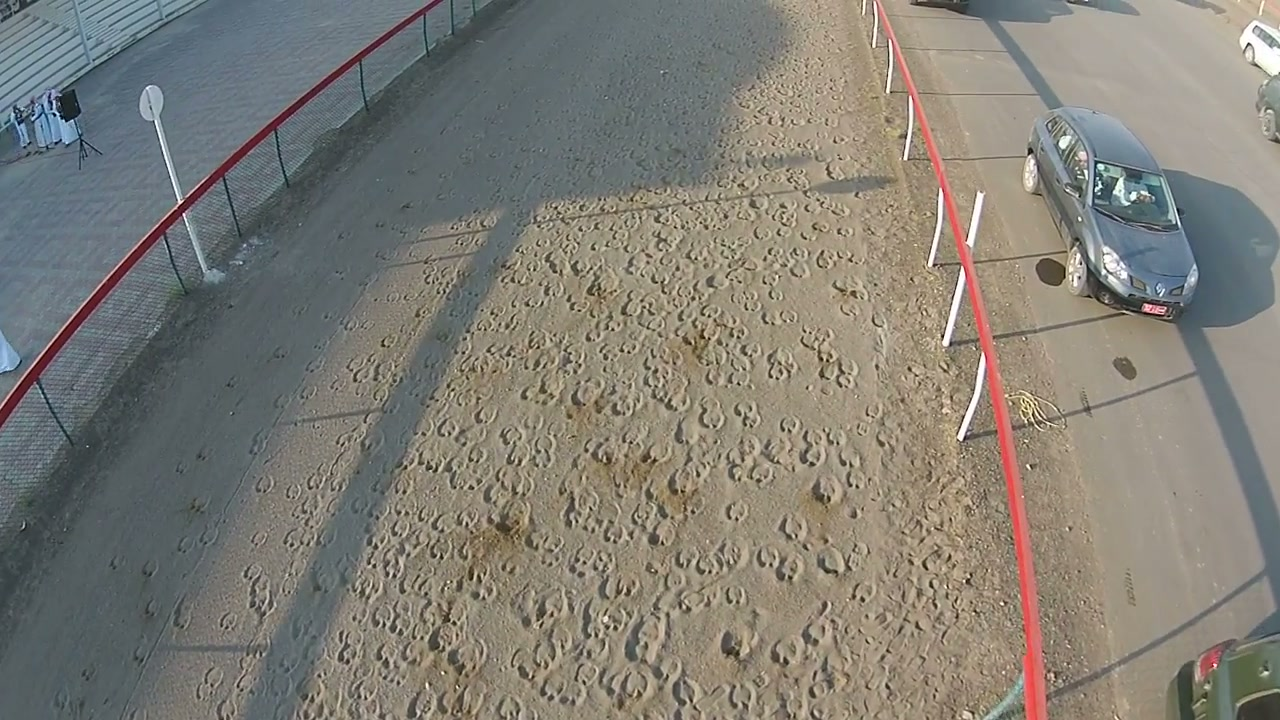animal_foot_print: (114, 0, 1017, 719), (627, 613, 666, 662), (725, 434, 763, 476), (762, 434, 799, 472), (720, 624, 757, 659), (819, 357, 859, 389), (800, 429, 827, 468), (811, 475, 844, 506), (767, 348, 798, 380), (775, 550, 804, 582), (699, 396, 726, 430), (816, 547, 848, 575), (778, 513, 807, 543), (734, 400, 760, 428), (725, 501, 748, 523)
